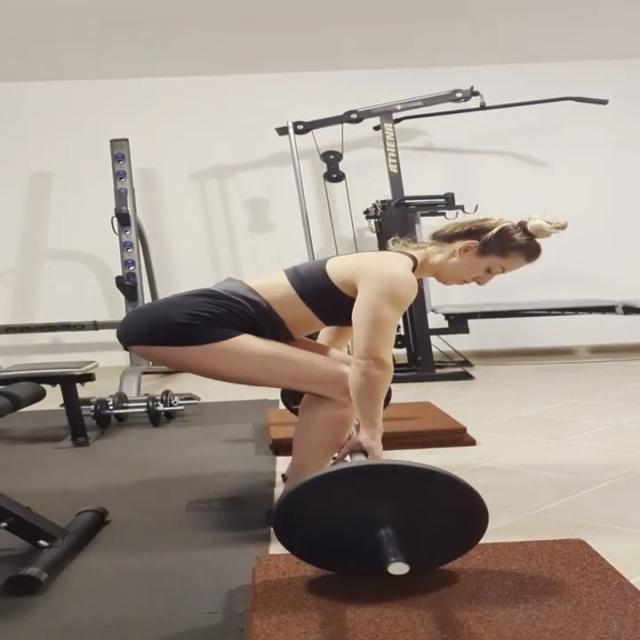barbell: (264, 455, 500, 591)
